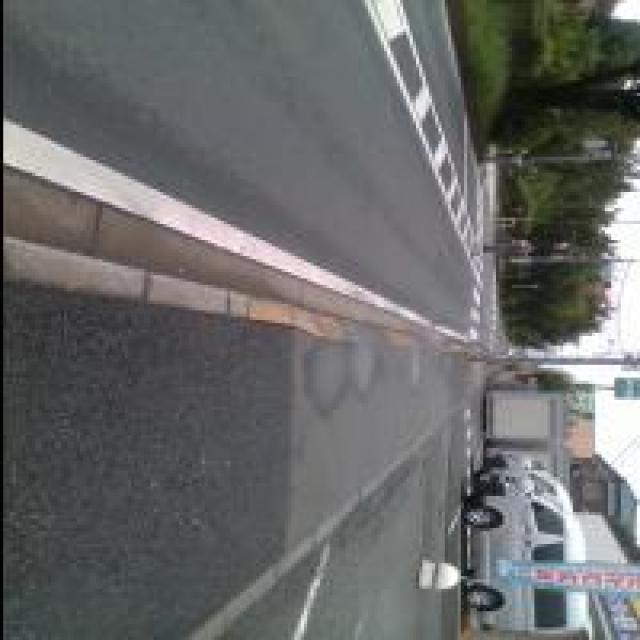Automobile: (466, 385, 639, 639)
Obstacle: (499, 561, 639, 592), (420, 560, 459, 589)
Road: (3, 0, 483, 348)
Sidewalk: (5, 283, 459, 639), (423, 360, 481, 580), (434, 589, 459, 639)
